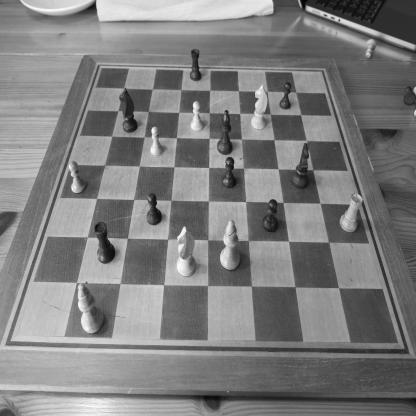black-bishop: (216, 109, 233, 156)
black-knight: (290, 142, 310, 190), (119, 87, 138, 134)
black-pawn: (146, 192, 162, 226), (262, 198, 278, 232), (222, 156, 236, 189), (279, 81, 292, 110)
black-rook: (94, 221, 116, 265), (189, 48, 202, 82)
white-bishop: (78, 282, 104, 334), (220, 219, 240, 271)
white-knight: (176, 226, 196, 278), (251, 84, 268, 130)
white-pawn: (68, 161, 87, 194), (190, 101, 204, 132), (150, 126, 163, 157), (365, 38, 376, 60)
white-rook: (339, 192, 363, 233)
